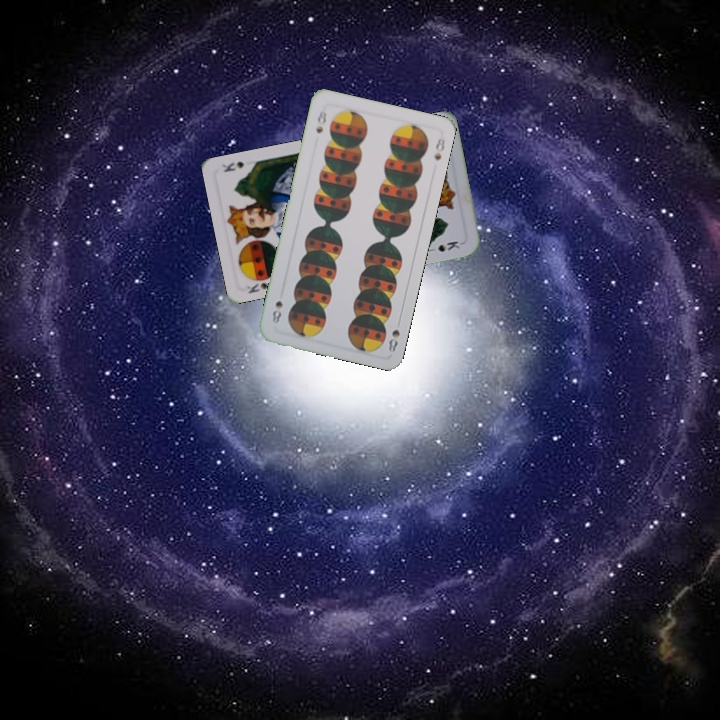S8: (384, 315, 403, 354), (312, 107, 329, 136)
SK: (243, 279, 272, 296)
